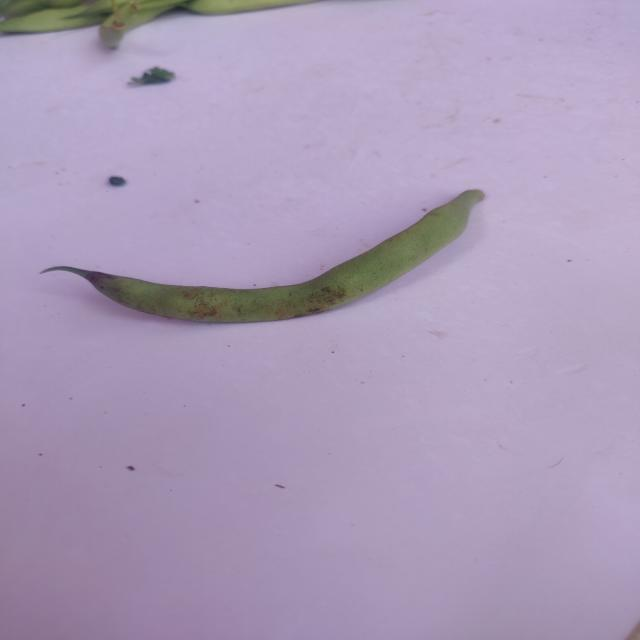Beans: (30, 181, 502, 344)
